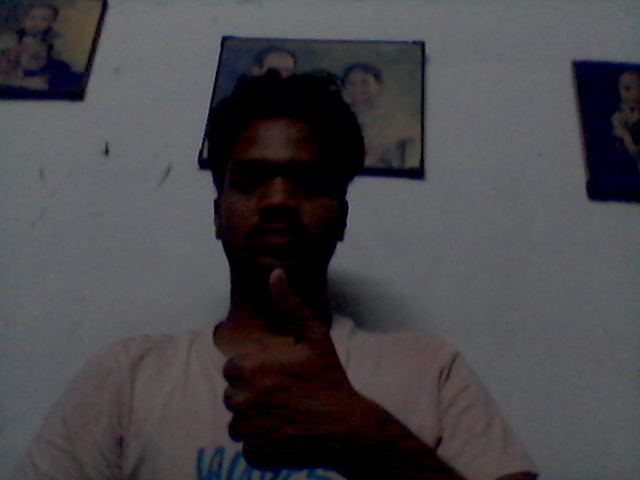Excuse Me: (224, 266, 362, 476)
Fine: (220, 262, 351, 480)
